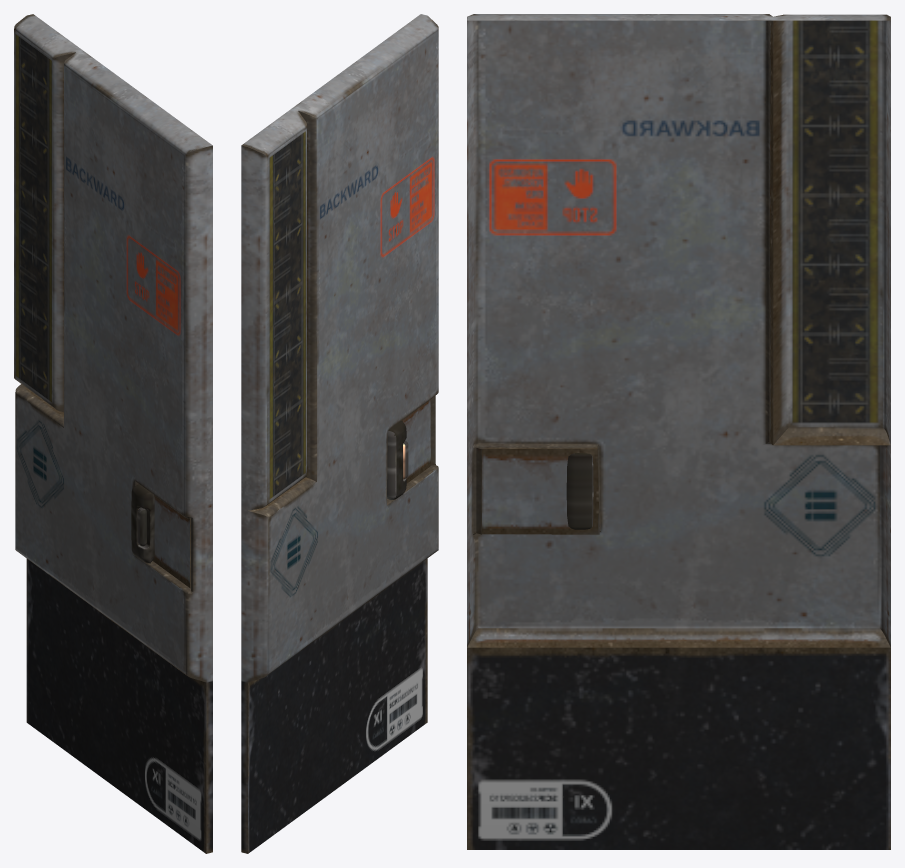
The model's file is SM_Doors_LP_pCube134.fbx.
The picture shows the model from 3 angles, left to right: view 1: azimuth 30°, elevation 25°; view 2: azimuth 150°, elevation 25°; view 3: azimuth 270°, elevation 25°; orthographic projection. The views are drawn at different scales.
Visible parts, largest first — view 1: SM_Doors_LP_pCube134_LOD0; view 2: SM_Doors_LP_pCube134_LOD0; view 3: SM_Doors_LP_pCube134_LOD0.
Part boxes in pixels (box(x1,y1,x2,y2)): SM_Doors_LP_pCube134_LOD0: box(14, 14, 212, 853); SM_Doors_LP_pCube134_LOD0: box(241, 14, 438, 853); SM_Doors_LP_pCube134_LOD0: box(467, 14, 890, 849).
Size of the model in its own units: 10.45 by 107 by 232.
2 materials, 2 textured.
